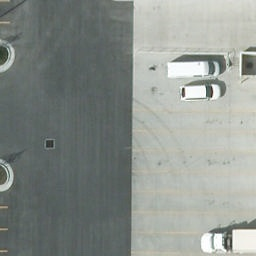car: (180, 85, 223, 100)
van: (167, 62, 221, 78)
